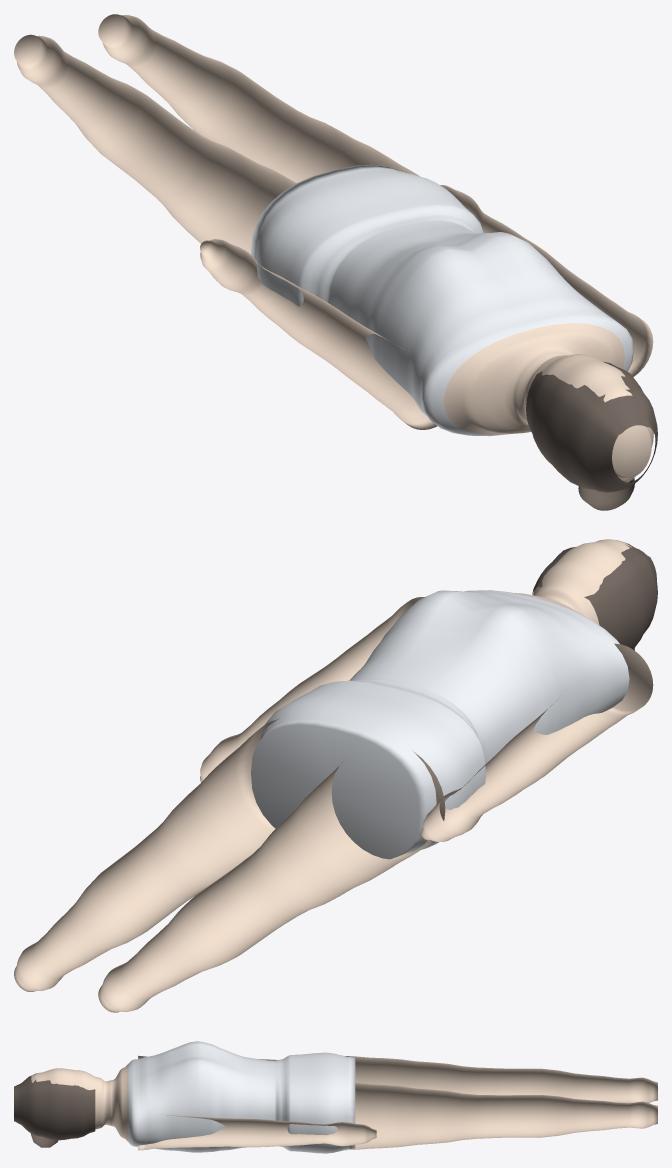
Rendered from paciente.glb.
The picture shows the model from 3 angles, top to bottom: view 1: azimuth 30°, elevation 25°; view 2: azimuth 150°, elevation 25°; view 3: azimuth 270°, elevation 25°; orthographic projection. The views are drawn at different scales.
Parts seen in each view (by area): view 1: paciente; view 2: paciente; view 3: paciente.
Boxes of the visible parts, x1,y1,x2,y2 form: paciente: (14,14,657,510); paciente: (14,539,657,1012); paciente: (14,1041,657,1153).
Size of the model in its own units: 0.4389 by 0.2665 by 1.65.
